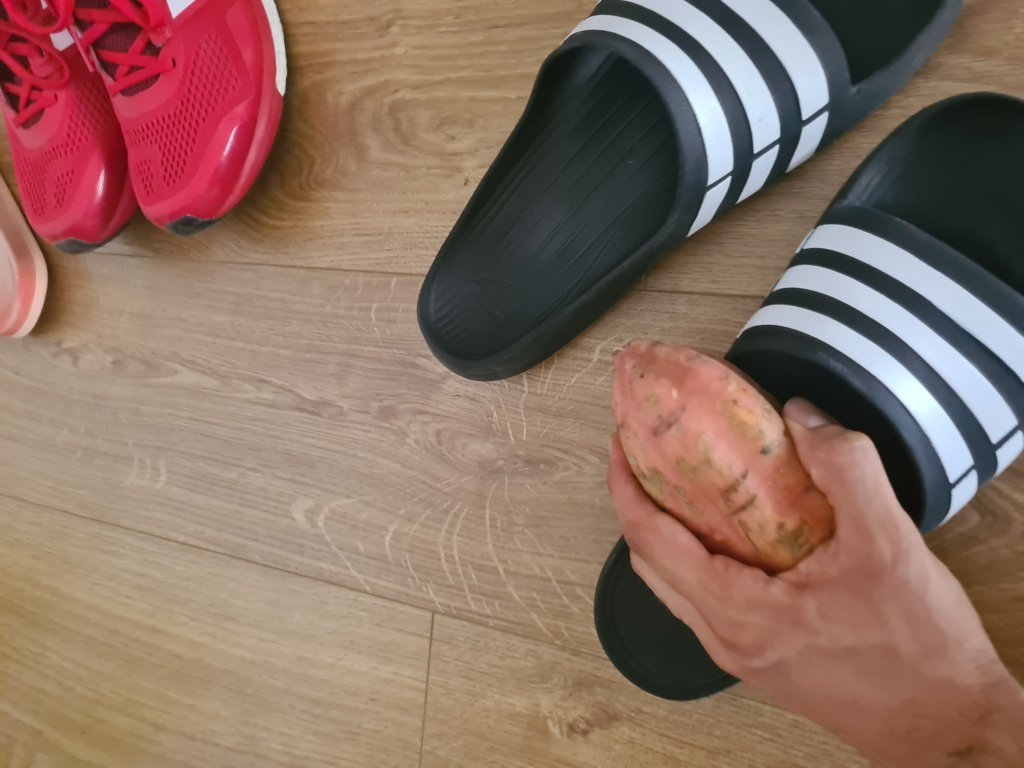Sweet Potatow: (607, 323, 840, 560)
